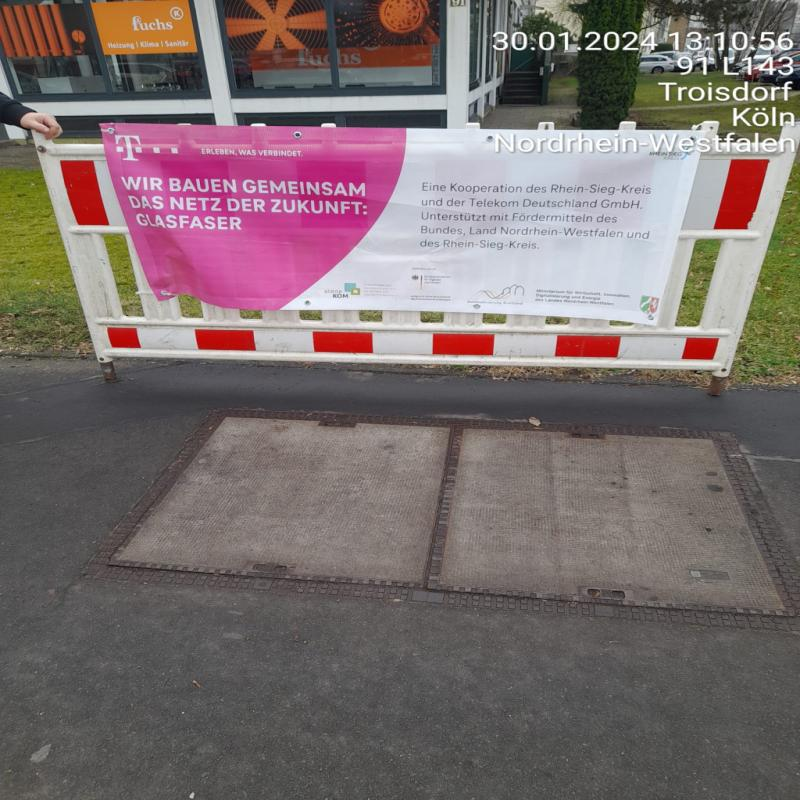Banner: (95, 118, 696, 324)
